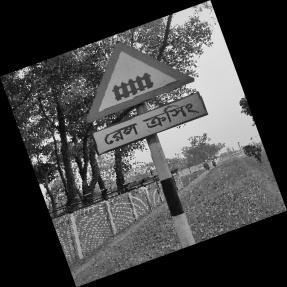Rail-crossing: (84, 42, 206, 159)
